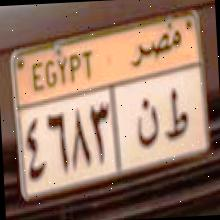3: (90, 100, 112, 165)
4: (25, 118, 44, 184)
6: (45, 110, 70, 174)
8: (69, 106, 92, 170)
Taa: (162, 84, 188, 146)
noon: (133, 94, 160, 147)
